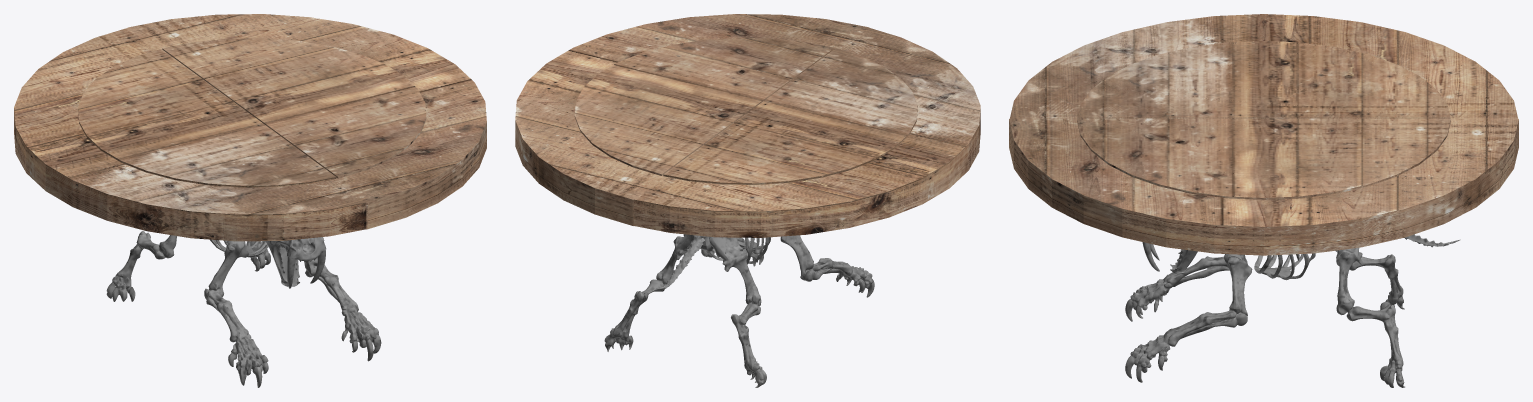
The model's file is smilodonAnim0222.glb.
The picture shows the model from 3 angles, left to right: view 1: azimuth 30°, elevation 25°; view 2: azimuth 150°, elevation 25°; view 3: azimuth 270°, elevation 25°; orthographic projection. The views are drawn at different scales.
Parts seen in each view (by area): view 1: Cilindro.002, Cilindro, Cilindro.001, Cilindro.003, model; view 2: Cilindro.002, Cilindro, Cilindro.001, Cilindro.003, model; view 3: Cilindro.003, Cilindro, Cilindro.001, Cilindro.002, model.
Boxes of the visible parts, x1=… form: Cilindro.002: x1=14, y1=28, x2=366, y2=241; Cilindro: x1=162, y1=38, x2=426, y2=178; Cilindro.001: x1=78, y1=49, x2=336, y2=187; Cilindro.003: x1=127, y1=14, x2=486, y2=229; model: x1=106, y1=231, x2=381, y2=387; Cilindro.002: x1=634, y1=27, x2=980, y2=237; Cilindro: x1=574, y1=38, x2=834, y2=175; Cilindro.001: x1=663, y1=48, x2=917, y2=184; Cilindro.003: x1=515, y1=14, x2=868, y2=225; model: x1=604, y1=234, x2=874, y2=387; Cilindro.003: x1=1009, y1=118, x2=1518, y2=255; Cilindro: x1=1077, y1=118, x2=1450, y2=199; Cilindro.001: x1=1077, y1=41, x2=1450, y2=118; Cilindro.002: x1=1010, y1=14, x2=1517, y2=118; model: x1=1125, y1=234, x2=1460, y2=387.
Bounding box in the file's own units: 19.38 × 9.8 × 19.6.
5 materials, 5 textured.
